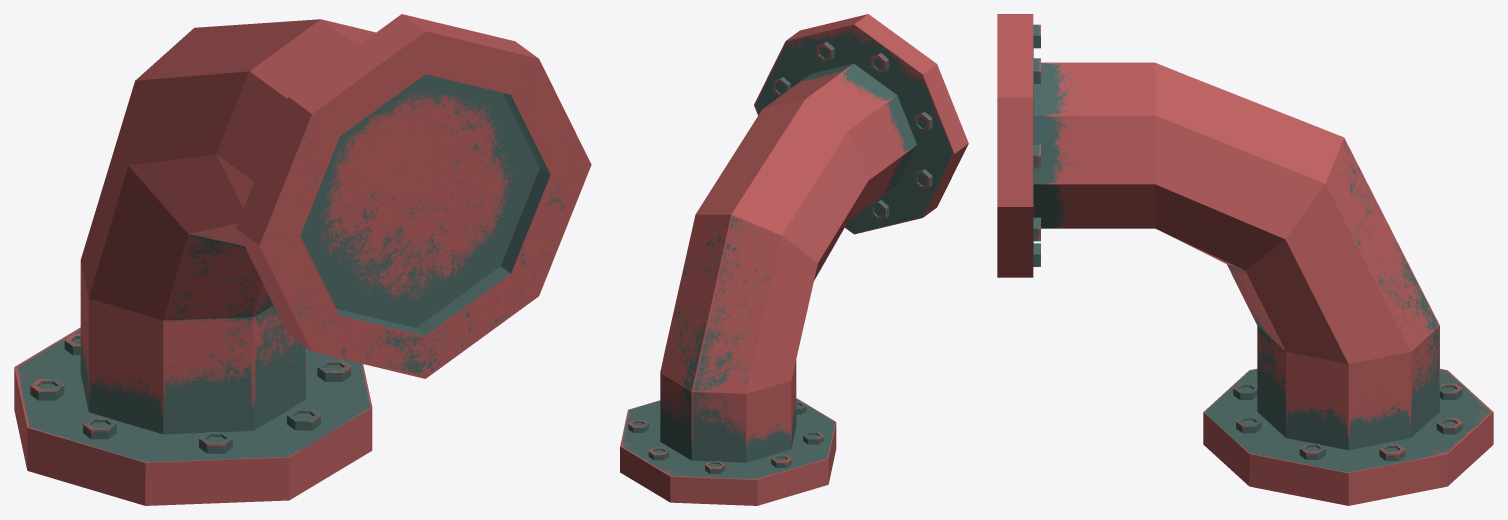
Rendered from PIPE_2.fbx.
3 renders of one model, left to right at view 1: azimuth 30°, elevation 25°; view 2: azimuth 150°, elevation 25°; view 3: azimuth 270°, elevation 25°, orthographic. The views are drawn at different scales.
Visible parts, largest first — view 1: Plane.032; view 2: Plane.032; view 3: Plane.032.
Part boxes in pixels (<box>): Plane.032: <box>14,14,591,505</box>; Plane.032: <box>620,14,968,505</box>; Plane.032: <box>997,14,1493,505</box>.
Bounding box in the file's own units: 559 × 915 × 957.
